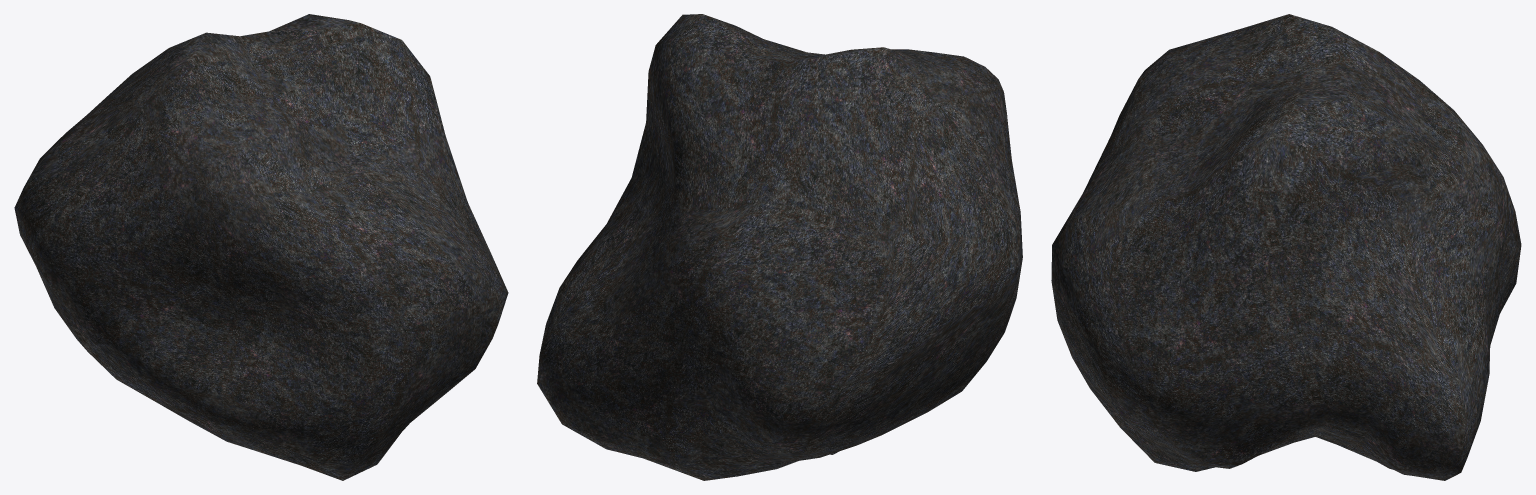
The model's file is asteroid_metal_large_s02_l0.fbx.
3 renders of one model, left to right at view 1: azimuth 30°, elevation 25°; view 2: azimuth 150°, elevation 25°; view 3: azimuth 270°, elevation 25°, orthographic. The views are drawn at different scales.
Visible parts, largest first — view 1: mesh_node; view 2: mesh_node; view 3: mesh_node.
Boxes of the visible parts, x1=… form: mesh_node: x1=14, y1=14, x2=508, y2=480; mesh_node: x1=537, y1=14, x2=1022, y2=480; mesh_node: x1=1051, y1=14, x2=1521, y2=480.
Size of the model in its own units: 110 by 110 by 114.
